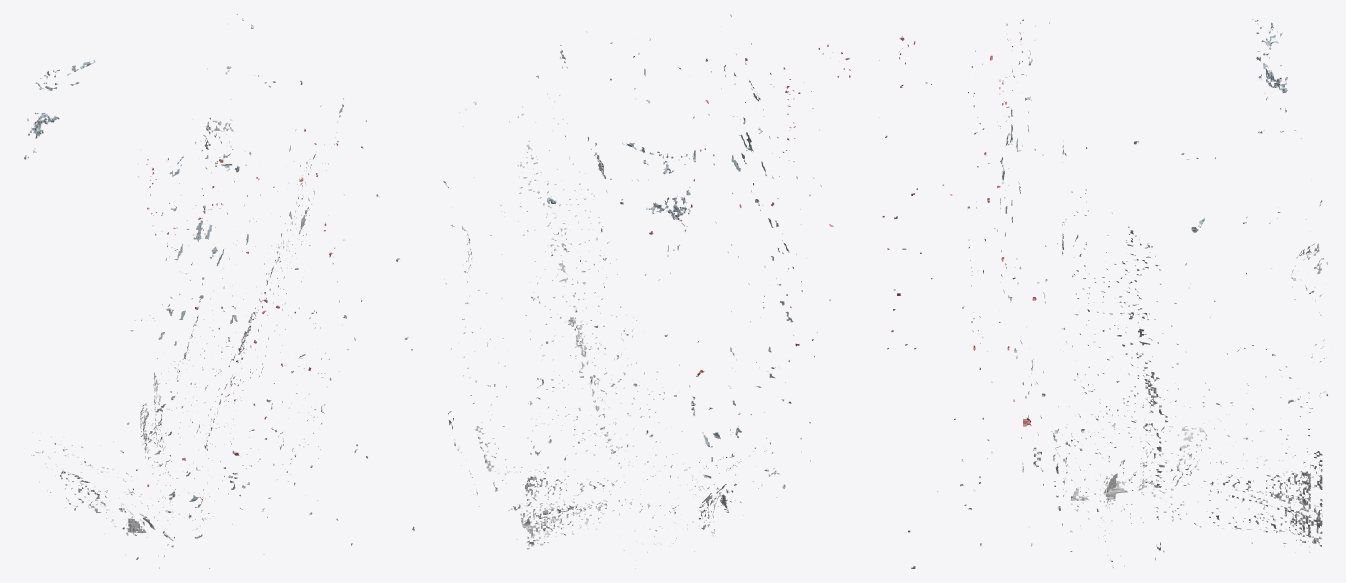
File: B0-뜬면-1__nojudge_ALS_s0__removed.glb
3 views of the same model, side by side, from view 1: azimuth 30°, elevation 25°; view 2: azimuth 150°, elevation 25°; view 3: azimuth 270°, elevation 25° (orthographic). The views are drawn at different scales.
Size of the model in its own units: 19.97 by 35.46 by 31.6.
